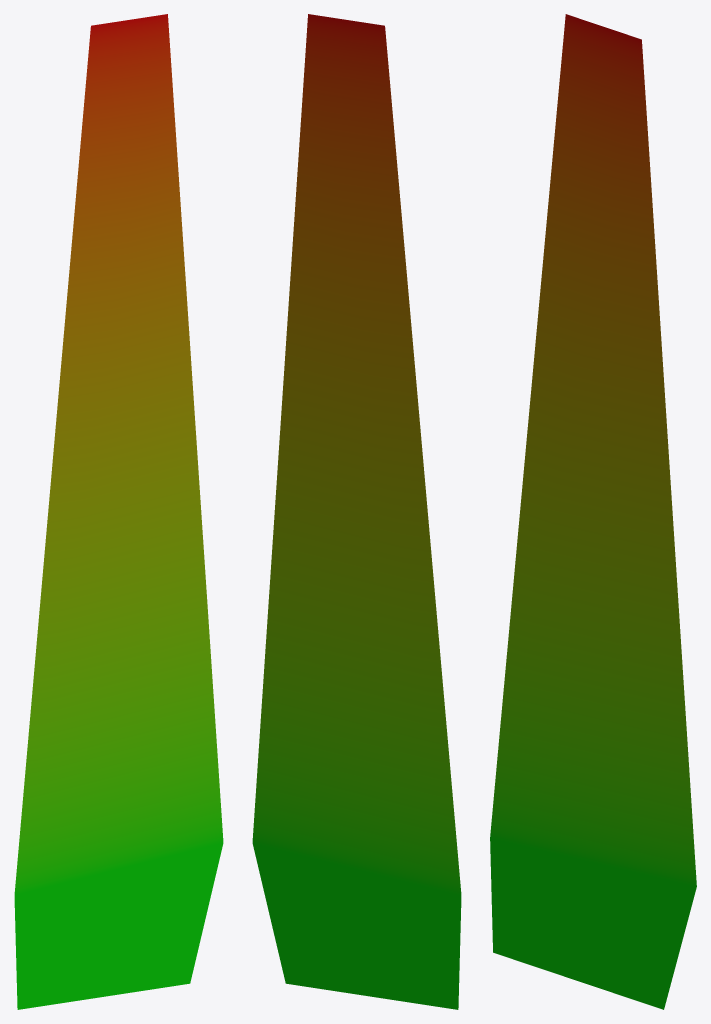
Rendered from Var5_LOD3.fbx.
The picture shows the model from 3 angles, left to right: view 1: azimuth 30°, elevation 25°; view 2: azimuth 150°, elevation 25°; view 3: azimuth 330°, elevation 25°; orthographic projection.
Visible parts, largest first — view 1: _2e90_Var5_LOD3; view 2: _2e90_Var5_LOD3; view 3: _2e90_Var5_LOD3.
Part boxes in pixels (x1,y1,x2,y2): _2e90_Var5_LOD3: (14,14,223,1009); _2e90_Var5_LOD3: (252,14,461,1009); _2e90_Var5_LOD3: (490,14,696,1009).
Size of the model in its own units: 23.85 by 107 by 1.14e-05.
